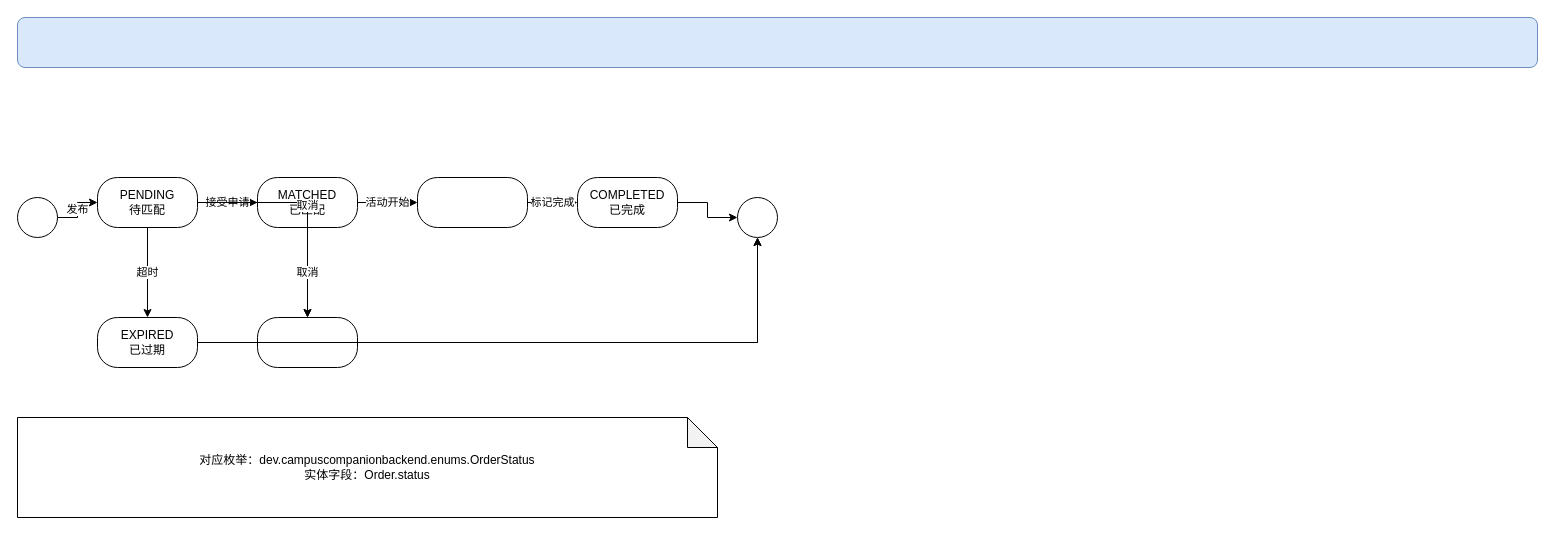
Image size: 1555x535. Some labels were removed from this diagram. Here are the shapes that lost their labels. From the top down, the centre of each, then its label:
At (777,42): "状态图 — 订单生命周期 (OrderStatus)".
At (472,202): "IN_PROGRESS 进行中".
At (307,342): "CANCELLED 已取消".
